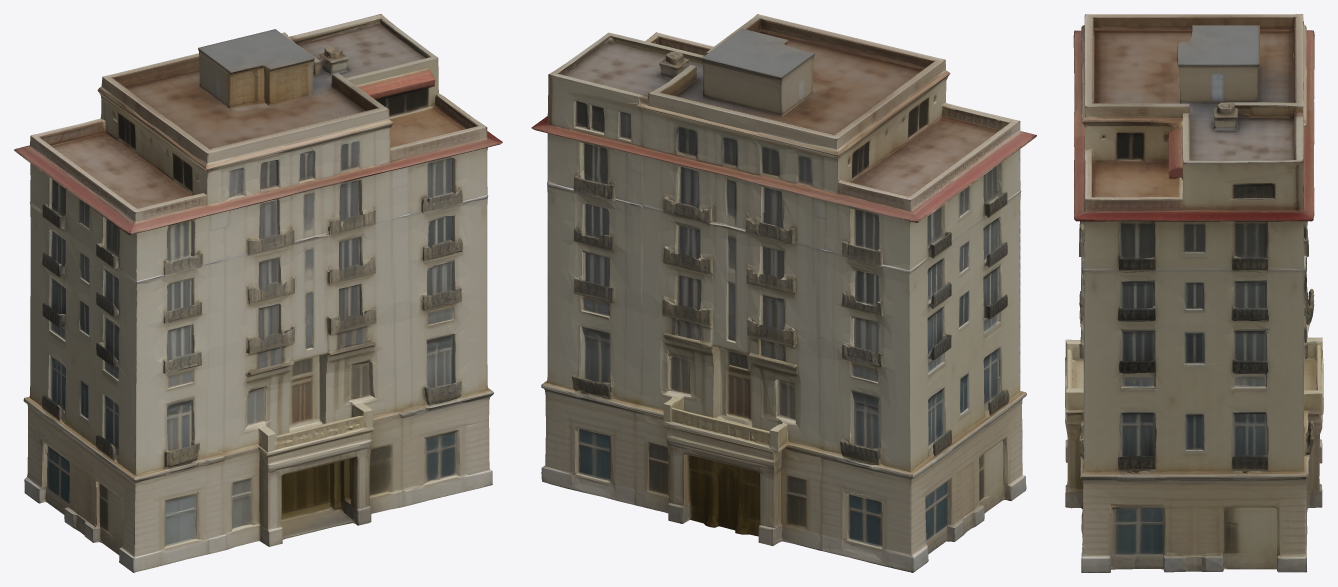
File: grand_hotel.glb
3 renders of one model, left to right at view 1: azimuth 30°, elevation 25°; view 2: azimuth 150°, elevation 25°; view 3: azimuth 270°, elevation 25°, orthographic. The views are drawn at different scales.
Visible parts, largest first — view 1: world; view 2: world; view 3: world.
Boxes of the visible parts, x1,y1,x2,y2 form: world: (14,14,502,572); world: (531,14,1036,572); world: (1065,14,1323,572).
Size of the model in its own units: 0.881 by 0.9551 by 0.5068.
1 material, 1 textured.
